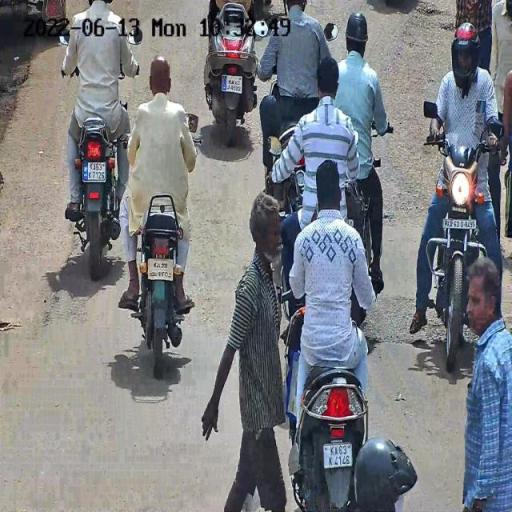using mobile: (310, 195, 322, 223)
